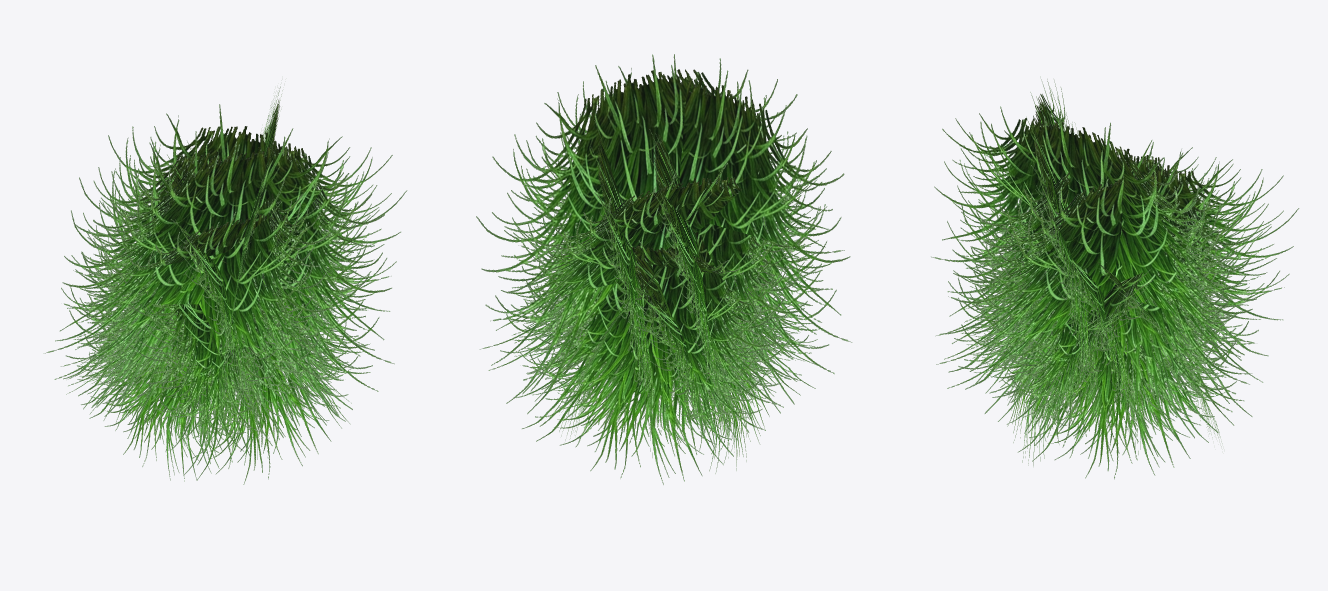
The model's file is grass_realistic.glb.
3 renders of one model, left to right at view 1: azimuth 30°, elevation 25°; view 2: azimuth 150°, elevation 25°; view 3: azimuth 270°, elevation 25°, orthographic. The views are drawn at different scales.
Parts seen in each view (by area): view 1: grass_realistic_Mesh; view 2: grass_realistic_Mesh; view 3: grass_realistic_Mesh.
Part boxes in pixels (x1,y1,x2,y2): grass_realistic_Mesh: (43, 86, 407, 484); grass_realistic_Mesh: (476, 54, 852, 484); grass_realistic_Mesh: (931, 76, 1299, 479).
Bounding box in the file's own units: 0.914 × 0.8773 × 0.823.
Materials: 1 (1 with a texture image).
